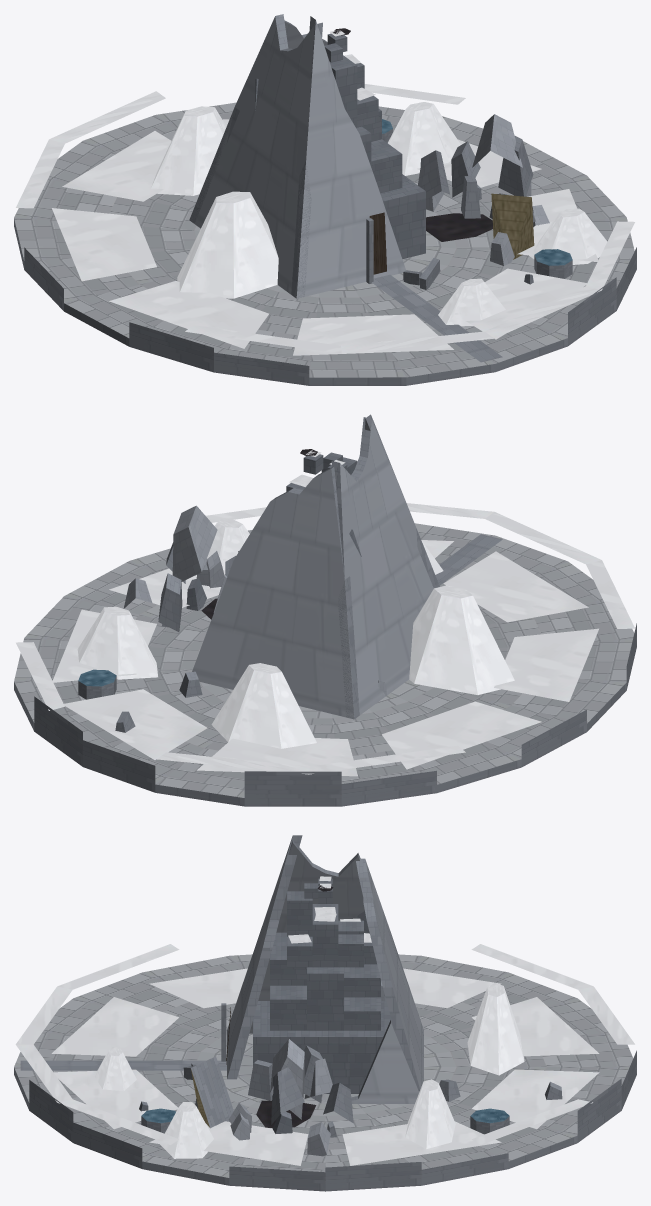
File: pyramid_small_destroyed_lod1.glb
3 renders of one model, top to bottom at view 1: azimuth 30°, elevation 25°; view 2: azimuth 150°, elevation 25°; view 3: azimuth 270°, elevation 25°, orthographic. The views are drawn at different scales.
Visible parts, largest first — view 1: pyramid_small_destroyed_lod1; view 2: pyramid_small_destroyed_lod1; view 3: pyramid_small_destroyed_lod1.
Part boxes in pixels (box(x1,y1,x2,y2)): pyramid_small_destroyed_lod1: box(14, 14, 636, 385); pyramid_small_destroyed_lod1: box(14, 414, 636, 806); pyramid_small_destroyed_lod1: box(14, 835, 636, 1191).
Size of the model in its own units: 1.7 by 0.7742 by 1.91.
Materials: 1 (1 with a texture image).
